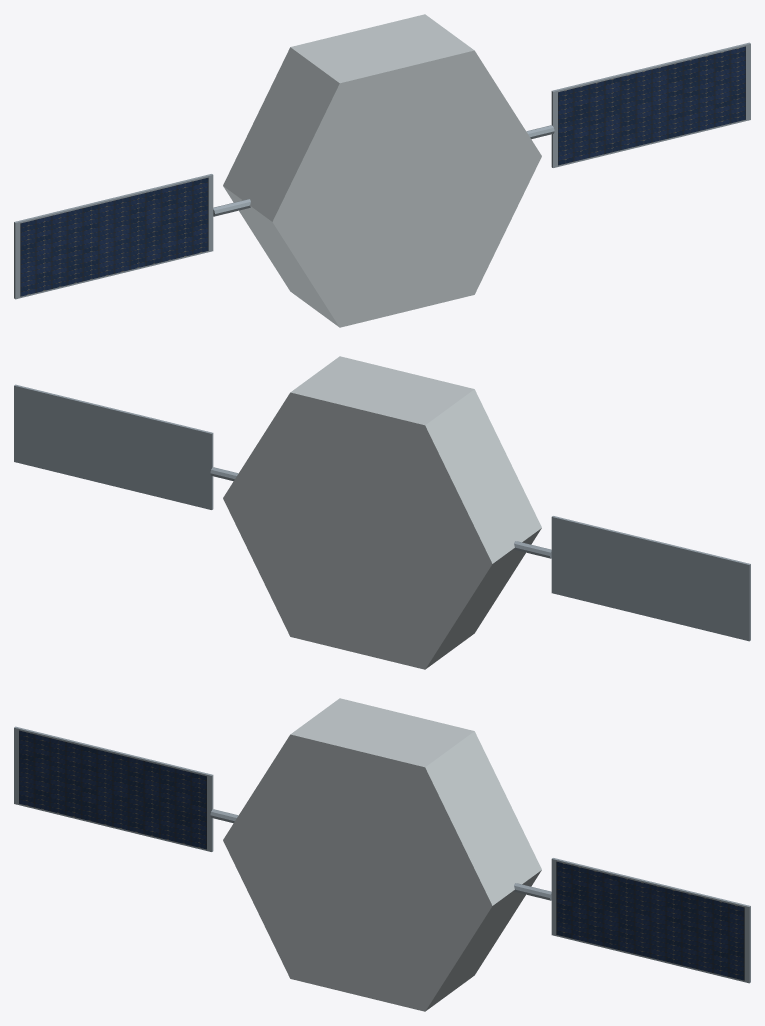
Rendered from ref-amsat-p3d-26609.glb.
The picture shows the model from 3 angles, top to bottom: view 1: azimuth 30°, elevation 25°; view 2: azimuth 150°, elevation 25°; view 3: azimuth 330°, elevation 25°; orthographic projection.
Visible parts, largest first — view 1: Spacecraft body, Photovoltaic laminates (×2), Array frame (×2); view 2: Spacecraft body, Array frame (×2); view 3: Spacecraft body, Photovoltaic laminates (×2), Array frame (×2).
Part boxes in pixels (box(x1,y1,x2,y2)): Spacecraft body: box(223, 14, 541, 327); Photovoltaic laminates (×2): box(20, 46, 745, 296); Array frame (×2): box(14, 42, 750, 299); Spacecraft body: box(223, 356, 541, 669); Array frame (×2): box(14, 384, 750, 641); Spacecraft body: box(223, 698, 541, 1011); Photovoltaic laminates (×2): box(19, 730, 744, 980); Array frame (×2): box(14, 726, 750, 983).
Bounding box in the file's own units: 6 × 1.91 × 0.7.
Materials: 3 (1 with a texture image).
